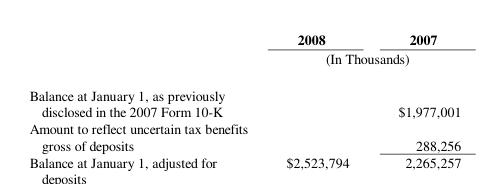table: (28, 29, 460, 153)
table column: (28, 29, 271, 153), (361, 29, 460, 153), (271, 29, 361, 153)
table column header: (28, 29, 460, 75)
table row: (28, 75, 460, 119), (28, 119, 460, 153), (28, 48, 460, 75), (28, 29, 460, 48)
table spanning cell: (271, 48, 460, 75)
